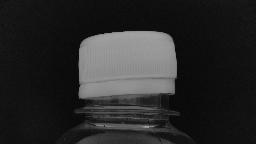Loose Cap: (69, 72, 191, 118)
